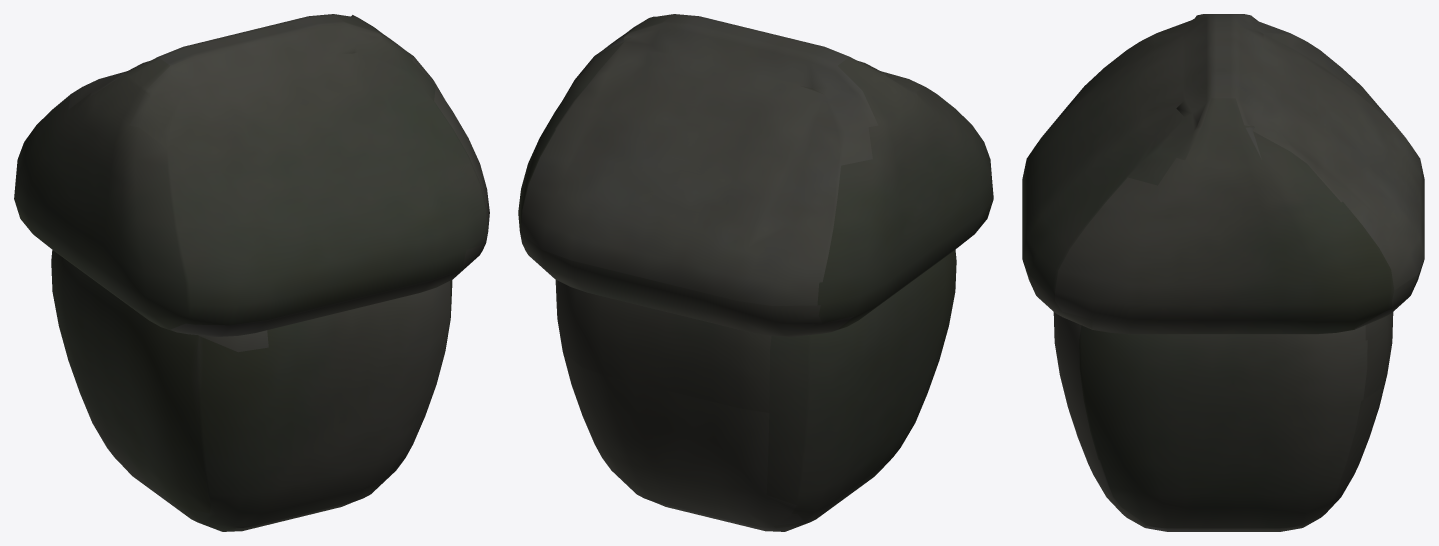
3 views of the same model, side by side, from view 1: azimuth 30°, elevation 25°; view 2: azimuth 150°, elevation 25°; view 3: azimuth 270°, elevation 25° (orthographic).
Visible parts, largest first — view 1: Mball.013, Mball.011; view 2: Mball.013, Mball.011; view 3: Mball.013, Mball.011.
Part boxes in pixels (x1,y1,x2,y2): Mball.013: (14,14,489,336); Mball.011: (51,250,452,531); Mball.013: (518,14,993,336); Mball.011: (555,249,956,531); Mball.013: (1022,14,1424,334); Mball.011: (1053,312,1393,531).
Bounding box in the file's own units: 1.88 × 2.31 × 1.88.
Materials: 1 (1 with a texture image).
